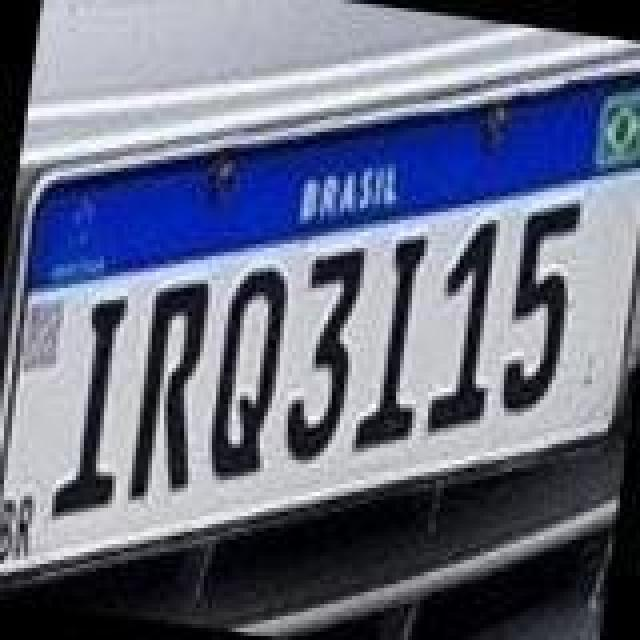1: (422, 212, 514, 444)
3: (278, 236, 370, 468)
5: (494, 192, 586, 424)
I: (48, 286, 144, 530), (346, 226, 438, 462)
Q: (202, 260, 294, 492)
R: (120, 272, 216, 512)
